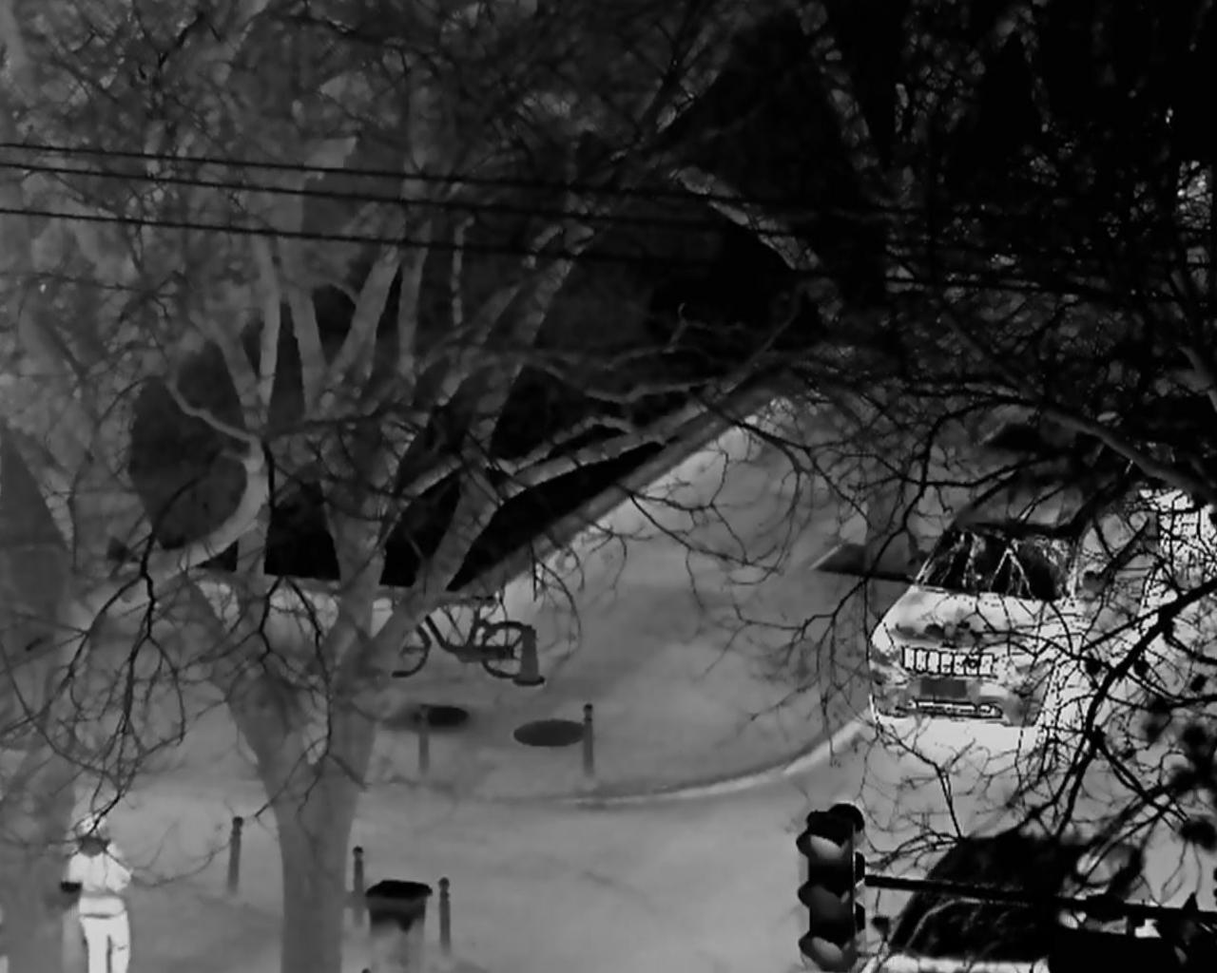person: (67, 813, 133, 973)
